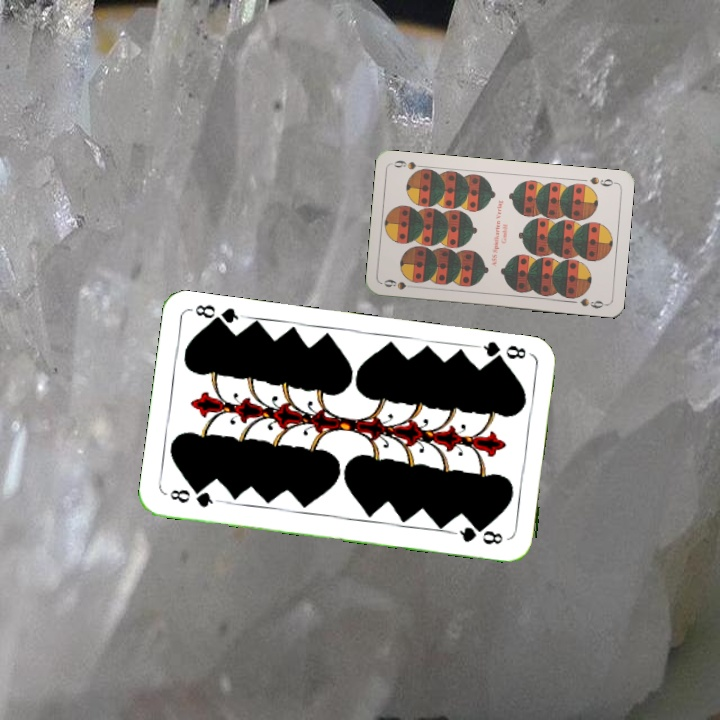G8: (475, 337, 529, 367), (166, 485, 222, 510)
S9: (380, 275, 420, 292), (586, 173, 618, 189)
